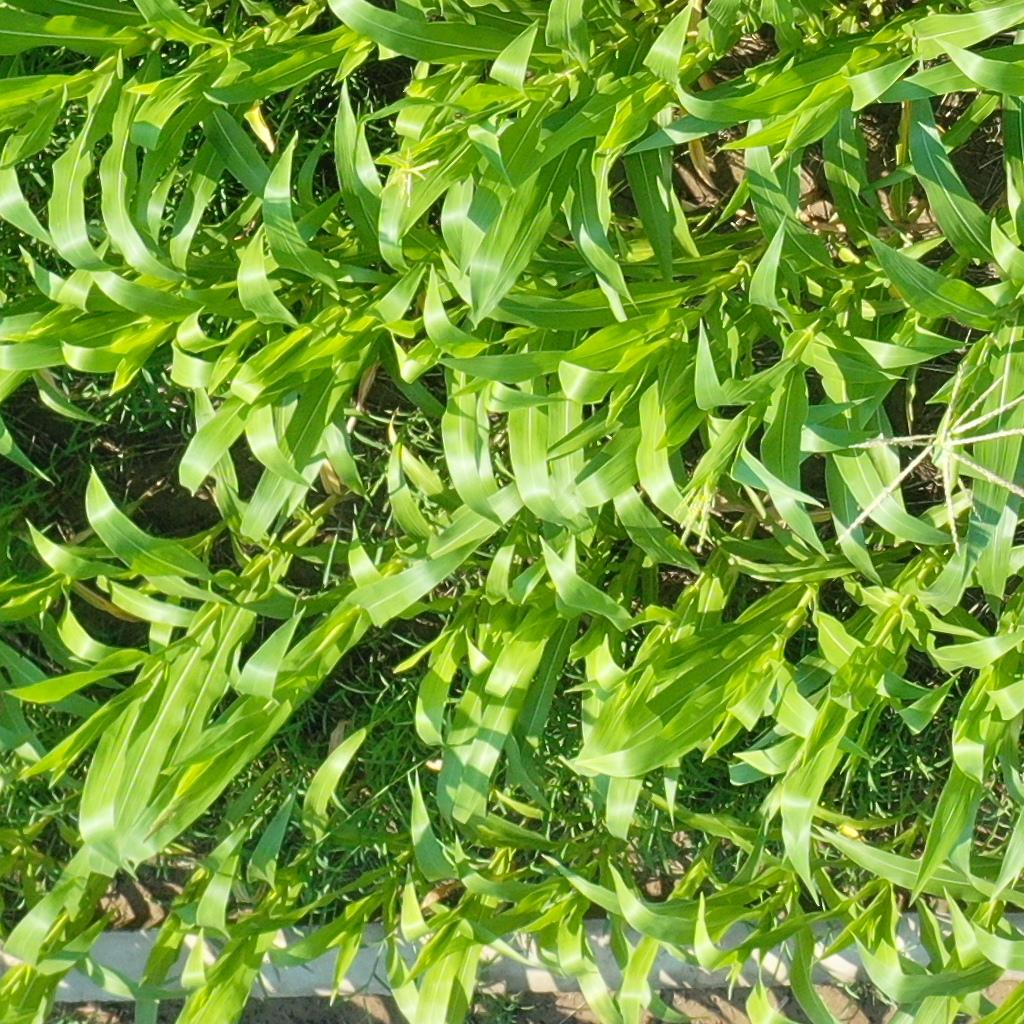Tassel: (830, 354, 1024, 555), (672, 469, 724, 559), (375, 145, 444, 208), (721, 954, 753, 1000)
